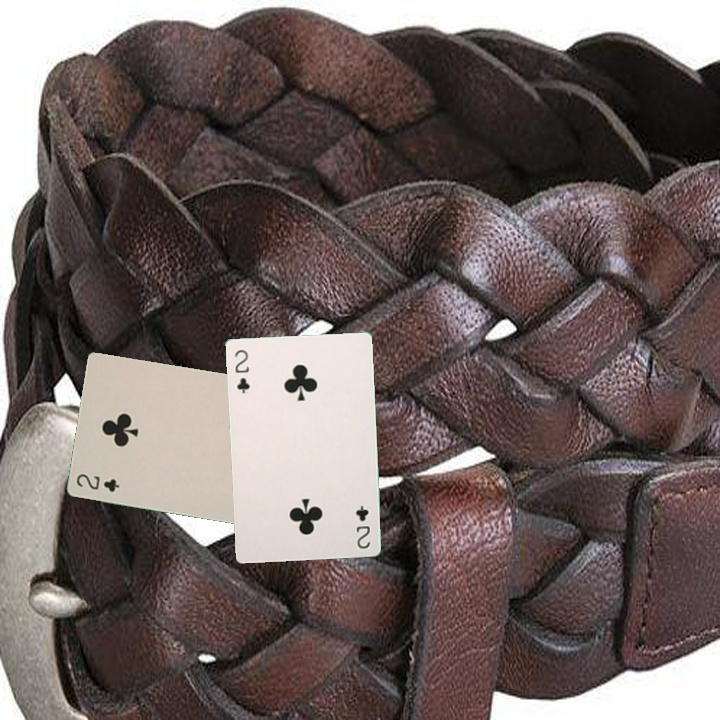2c: (72, 469, 122, 495), (231, 346, 252, 396), (352, 501, 373, 551)
